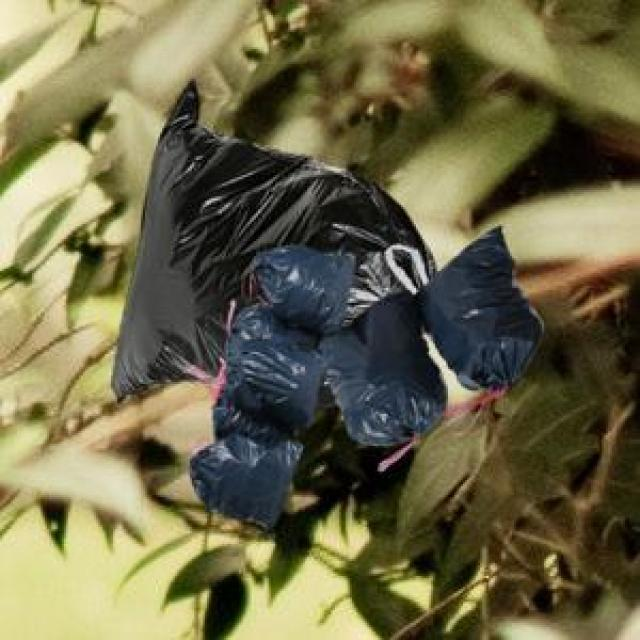Vinyl: (112, 82, 542, 528)
